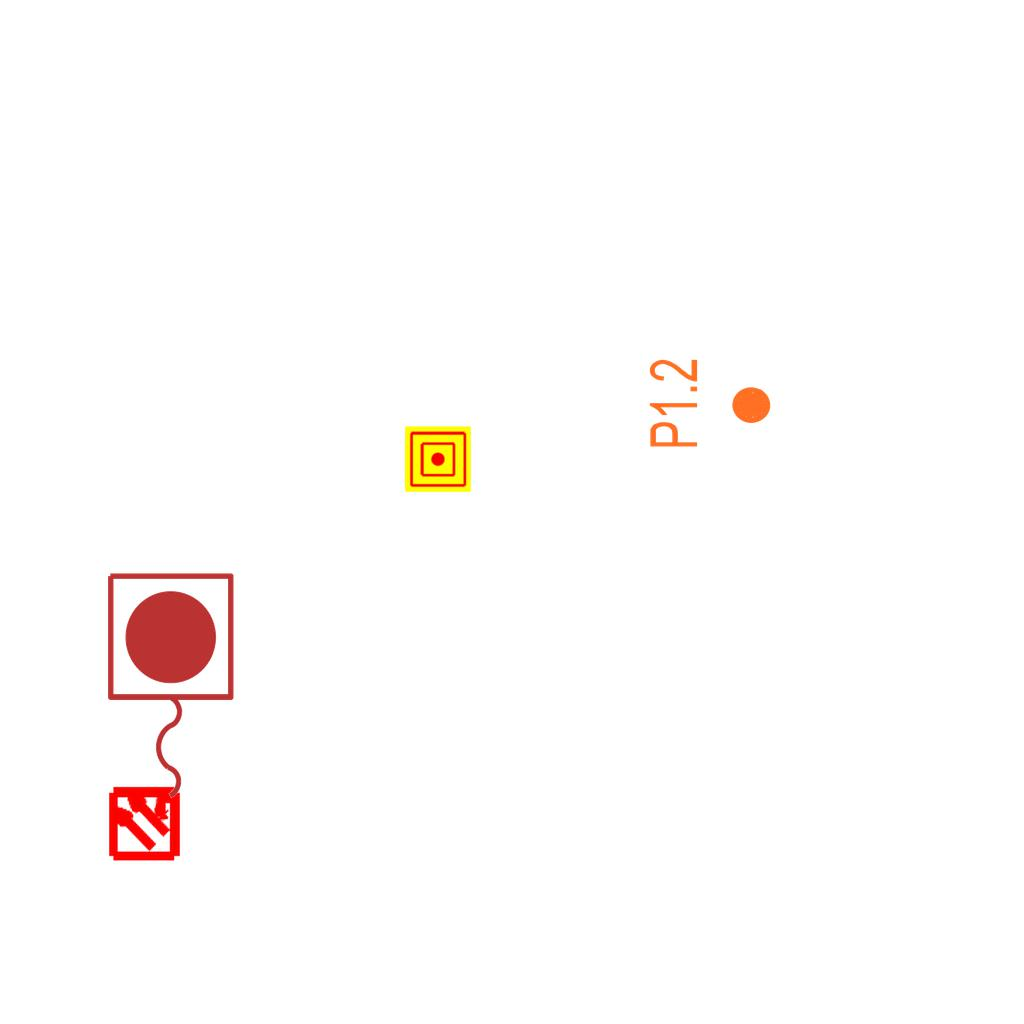Downlight_LED_Einbauleuchten_Flur: (646, 357, 774, 450)
NAM-Nichtautomatischer_Melder: (405, 426, 471, 492)
OT_Multisensormelder_(Kombination_RMO_WMD): (88, 765, 201, 878)
Zugtaster: (97, 565, 241, 809)
